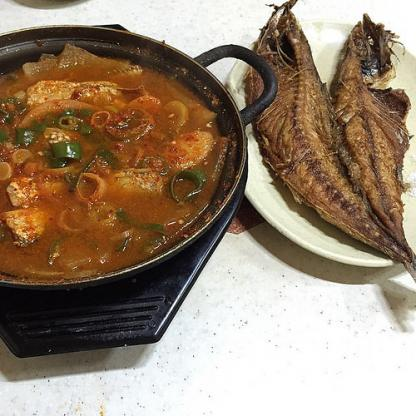Peixe: (240, 0, 416, 262)
